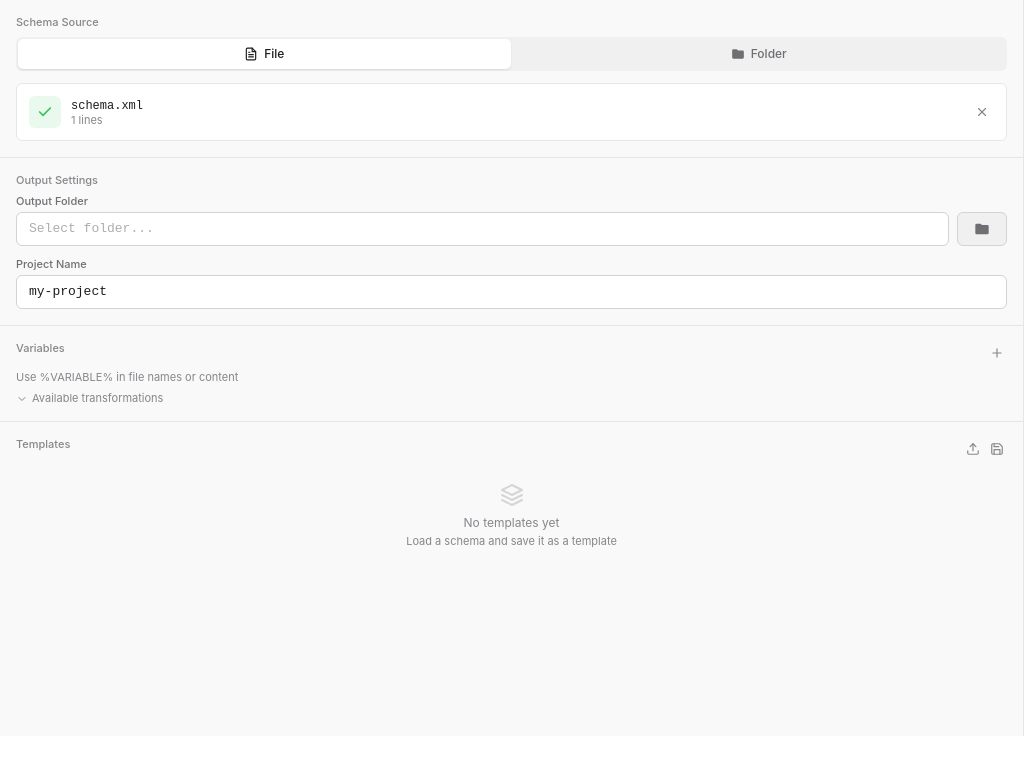
Scenario: LeftPanel › Schema Source Section › source type toggle › clears schema when switching modes
Expected: the text "1 lines" is shown, [71,112,103,126]
# Switch to folder mode
Click the button "Folder" at (759, 54), box [512,39,1005,69]
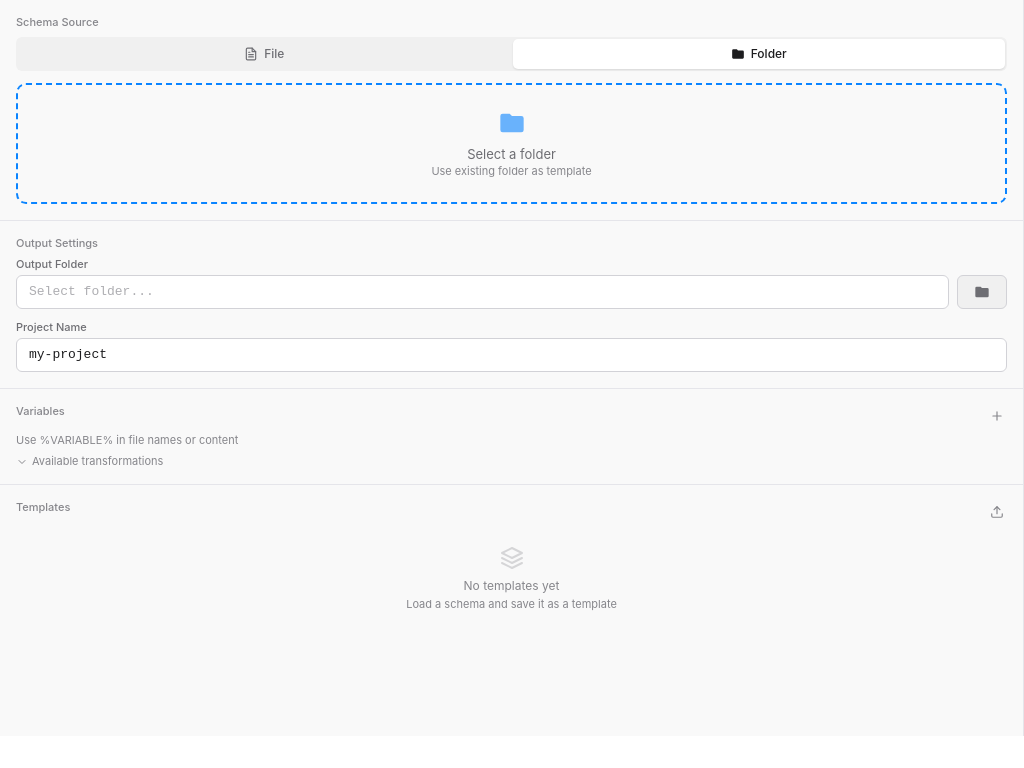
Expected: the text "lines" is gone
